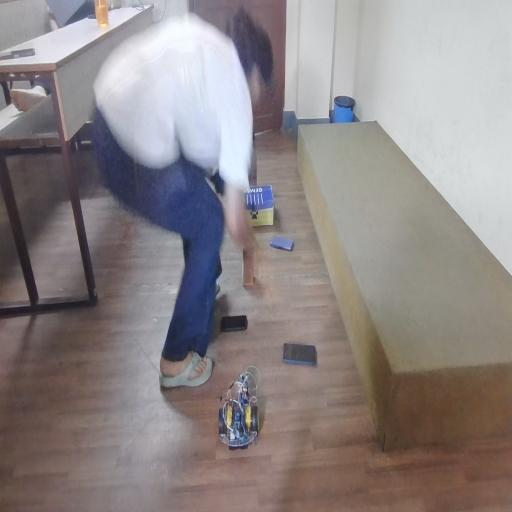car: (218, 361, 279, 467)
